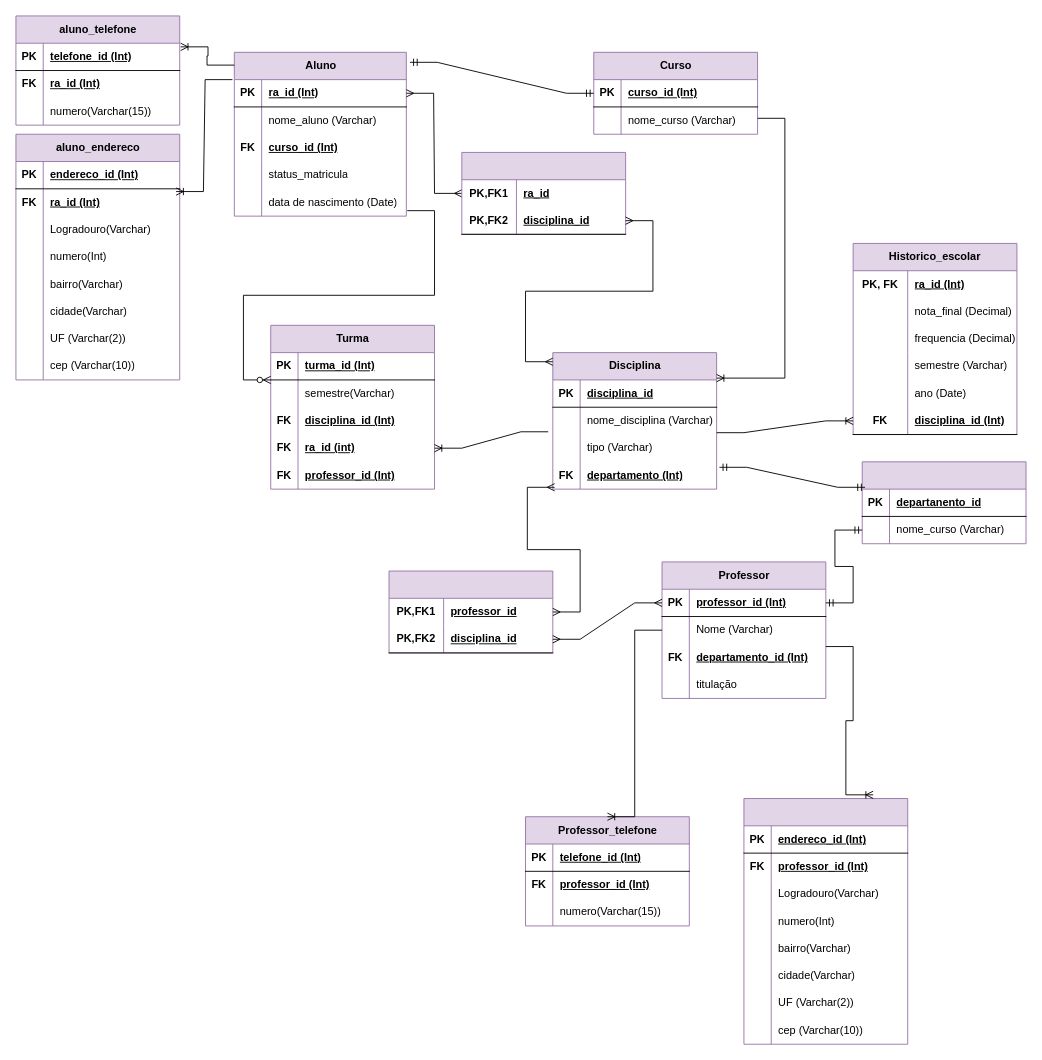
The diagram is 1042 pixels wide and 1060 high, and some of its shapes have lost their labels. The box of each missing label's shape, as (x1, y1, x2, y2) in pixels:
aluno_disciplina: (461, 152, 626, 234)
Departamento: (861, 461, 1026, 544)
professor_disciplina: (388, 570, 553, 653)
Professor_endereco: (743, 798, 908, 1044)
